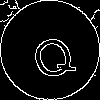Q: (25, 25, 79, 84)
